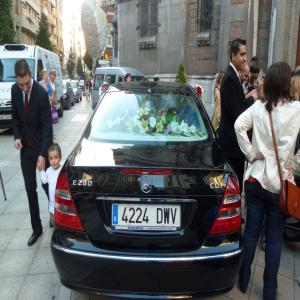Vehicle-registration-plate: (112, 203, 184, 233), (1, 116, 12, 120)
